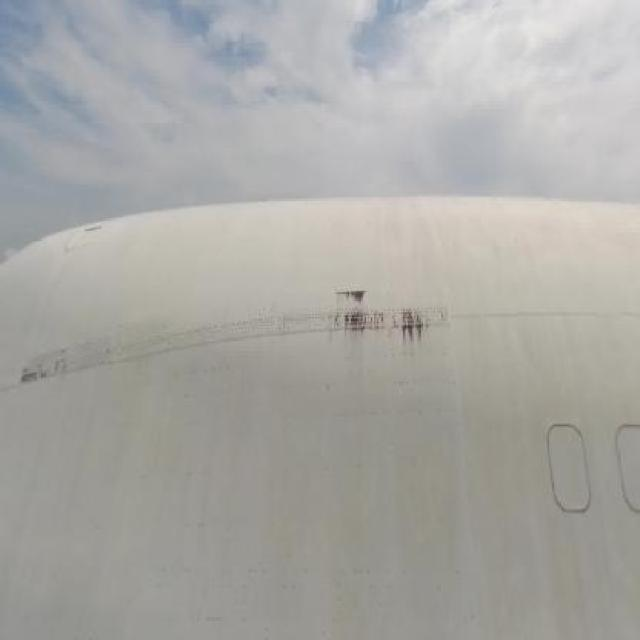Rust: (321, 278, 448, 356)
Scartch: (19, 344, 84, 396)
